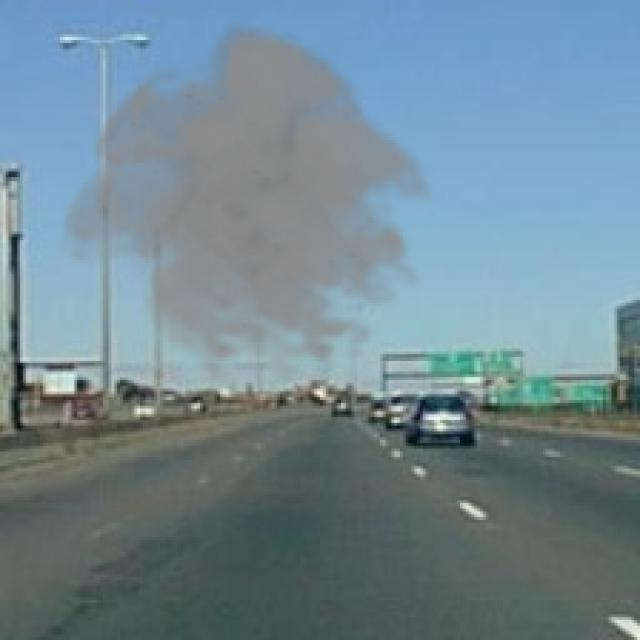smoke: (54, 20, 446, 386)
